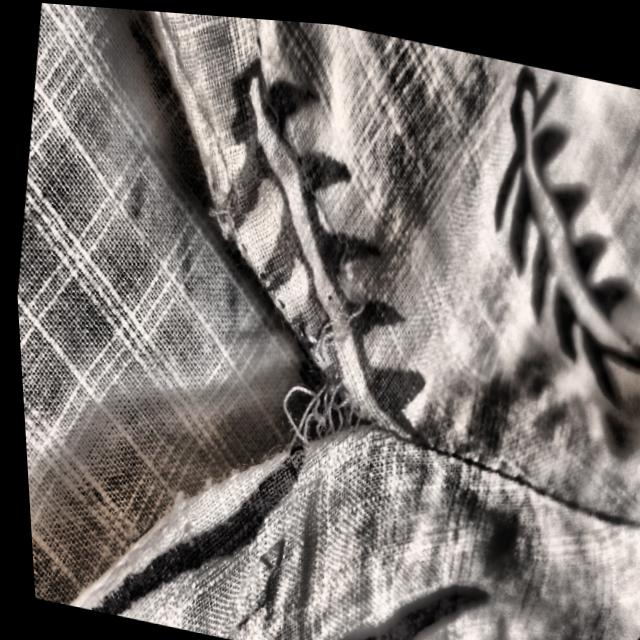Stitch: (245, 252, 393, 510)
